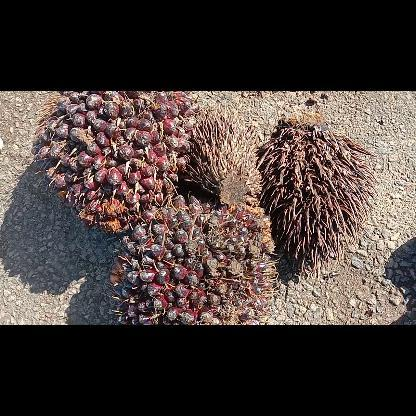Janjang kosong: (257, 113, 375, 279), (184, 104, 262, 204)
TBS mentah: (31, 91, 198, 237), (109, 196, 279, 324)
